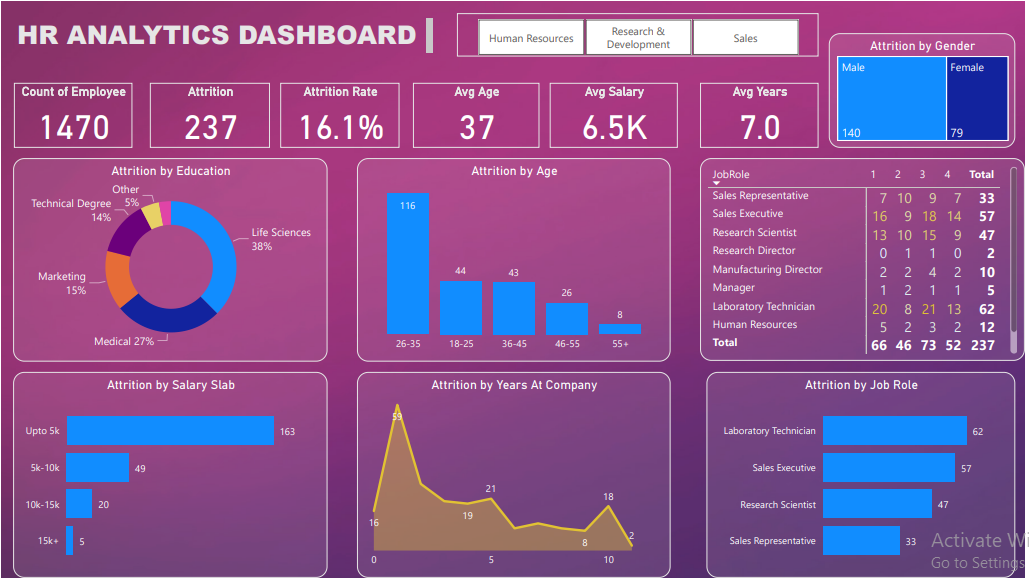

The dashboard page shown, as its layout file describes it:
{"tool":"powerbi","page":{"name":"Page 1","canvas":[1280,720],"ordinal":0},"visuals":[{"type":"card","title":"Count of Employee","fields":{"Values":["CountNonNull(HR_Analytics.EmpID)"]},"box":[15.6,102,148.8,80.8],"z":0},{"type":"card","title":"Attrition","fields":{"Values":["Sum(HR_Analytics.AttritionCount)"]},"box":[186.2,102.3,149.3,80.5],"z":1000},{"type":"card","title":"Attrition Rate","fields":{"Values":["HR_Analytics.AttritionRate"]},"box":[348.9,102.3,149.3,80.5],"z":2000},{"type":"card","title":"Avg Age","fields":{"Values":["Avg(HR_Analytics.Age)"]},"box":[515,102.3,157.7,80.5],"z":3000},{"type":"card","title":"Avg Salary","fields":{"Values":["Avg(HR_Analytics.MonthlyIncome)"]},"box":[686.1,102.3,159.4,80.5],"z":4000},{"type":"card","title":"Avg Years","fields":{"Values":["Avg(HR_Analytics.YearsAtCompany)"]},"box":[874,102.3,147.6,80.5],"z":5000},{"type":"donutChart","title":"Attrition by Education","fields":{"Category":["HR_Analytics.EducationField"],"Y":["Sum(HR_Analytics.AttritionCount)"]},"box":[15.1,196.3,392.6,253.3],"z":6000},{"type":"columnChart","title":"Attrition by Age","fields":{"Category":["HR_Analytics.AgeGroup"],"Y":["Sum(HR_Analytics.AttritionCount)"]},"box":[444.6,196.3,392.6,253.3],"z":7000},{"type":"pivotTable","fields":{"Rows":["HR_Analytics.JobRole"],"Columns":["HR_Analytics.JobSatisfaction"],"Values":["Sum(HR_Analytics.AttritionCount)"]},"box":[874.5,195.6,405.4,253.7],"z":8000},{"type":"barChart","title":"Attrition by Salary Slab","fields":{"Category":["HR_Analytics.SalarySlab"],"Y":["Sum(HR_Analytics.AttritionCount)"]},"box":[15.1,463,392.6,256.7],"z":9000},{"type":"barChart","title":"Attrition by Job Role","fields":{"Category":["HR_Analytics.JobRole"],"Y":["Sum(HR_Analytics.AttritionCount)"]},"box":[882.4,463,385.8,256.7],"z":10000},{"type":"areaChart","title":"Attrition by Years At Company","fields":{"Category":["HR_Analytics.YearsAtCompany","HR_Analytics.AgeGroup"],"Y":["Sum(HR_Analytics.AttritionCount)"]},"box":[444.6,463,392.6,256.7],"z":11000},{"type":"treemap","title":"Attrition by Gender","fields":{"Group":["HR_Analytics.Gender"],"Values":["Sum(HR_Analytics.AttritionCount)"]},"box":[1035.1,40.3,233.2,142.6],"z":12000},{"type":"slicer","fields":{"Values":["HR_Analytics.Department"]},"box":[570.4,15.1,451.3,53.7],"z":13000},{"type":"textbox","box":[15.1,15.1,530.1,53.7],"z":14000}]}

Visuals, with their boxes in screenshot pixels (x1, y1, x2, y2):
"Count of Employee" card: detection(15, 84, 133, 148)
"Attrition" card: detection(150, 84, 269, 148)
"Attrition Rate" card: detection(279, 84, 398, 148)
"Avg Age" card: detection(411, 84, 536, 148)
"Avg Salary" card: detection(547, 84, 673, 148)
"Avg Years" card: detection(696, 84, 813, 148)
"Attrition by Education" donutChart: detection(15, 158, 326, 359)
"Attrition by Age" columnChart: detection(355, 158, 666, 359)
pivotTable - HR_Analytics.JobRole x HR_Analytics.JobSatisfaction: detection(696, 158, 1017, 359)
"Attrition by Salary Slab" barChart: detection(15, 370, 326, 573)
"Attrition by Job Role" barChart: detection(702, 370, 1008, 573)
"Attrition by Years At Company" areaChart: detection(355, 370, 666, 573)
"Attrition by Gender" treemap: detection(823, 35, 1008, 148)
slicer - HR_Analytics.Department: detection(455, 15, 813, 57)
textbox: detection(15, 15, 435, 57)
